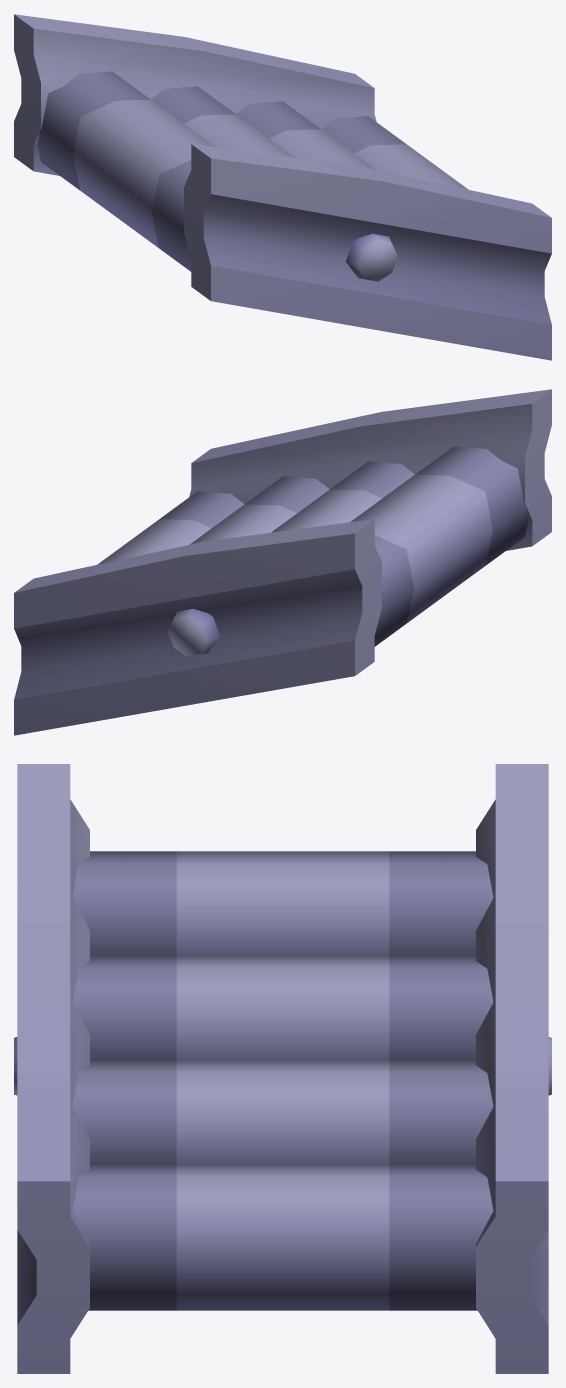
Rendered from kenney-factory-conveyor-bars-stripe-high-slope.glb.
3 views of the same model, one above another, from view 1: azimuth 30°, elevation 25°; view 2: azimuth 150°, elevation 25°; view 3: azimuth 270°, elevation 25° (orthographic). The views are drawn at different scales.
Parts seen in each view (by area): view 1: conveyor-bars-stripe-high-slope; view 2: conveyor-bars-stripe-high-slope; view 3: conveyor-bars-stripe-high-slope.
Boxes of the visible parts, x1,y1,x2,y2 form: conveyor-bars-stripe-high-slope: (14, 14, 551, 360); conveyor-bars-stripe-high-slope: (14, 389, 551, 735); conveyor-bars-stripe-high-slope: (14, 764, 551, 1373).
Bounding box in the file's own units: 1 × 0.8 × 1.01.
Materials: 1 (1 with a texture image).
